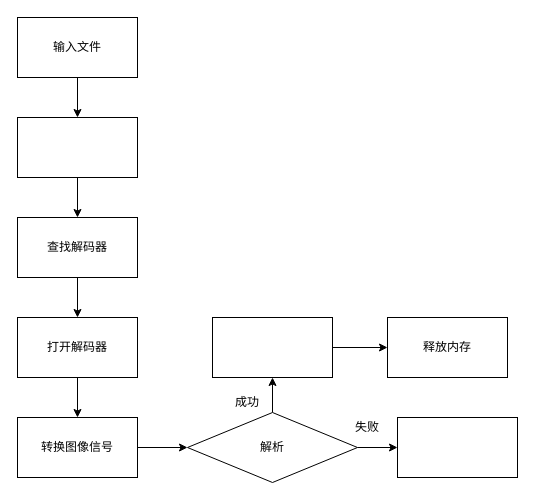
The diagram is 535 pixels wide and 500 high, and some of its shapes have lost their labels. The shapes that lost their labels are listed below. From the top down, each one's centre as x and y in pixels, then its label:
pixel 77 147: 获取视频流
pixel 272 347: 获取视频
pixel 457 447: 重新寻找解码器
